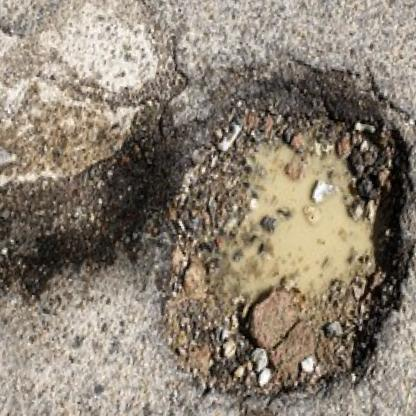pothole: (143, 49, 416, 416), (0, 0, 201, 338)
